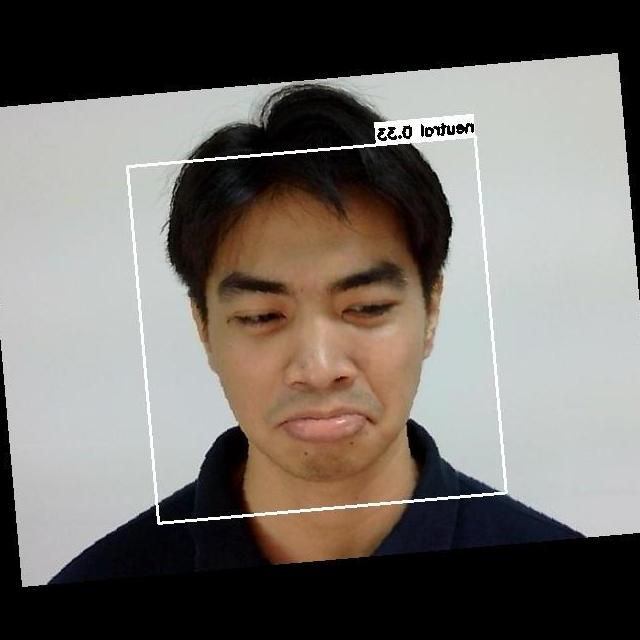Sad: (208, 241, 430, 468)
